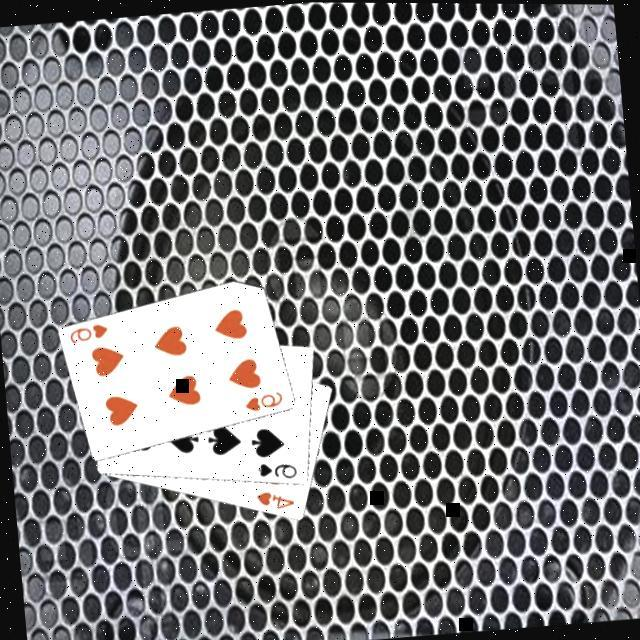4H: (253, 483, 300, 512)
6H: (67, 318, 114, 346), (242, 386, 288, 414)
9S: (255, 454, 302, 482)
